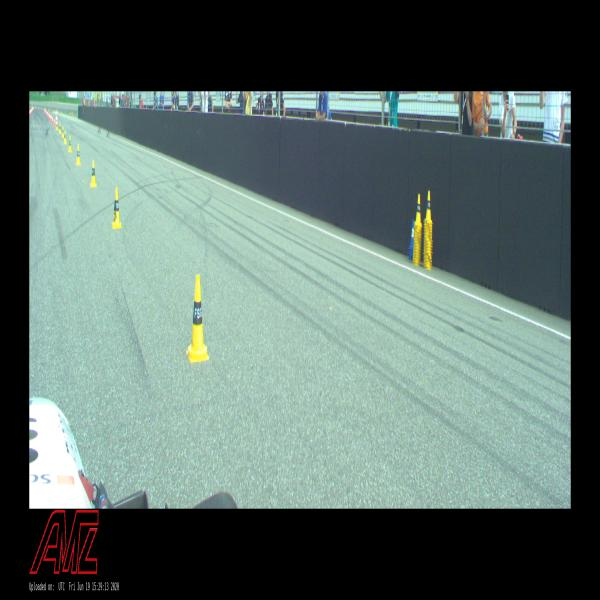blue_cone: (408, 219, 415, 251)
large_orange_cone: (55, 114, 58, 128)
orange_cone: (54, 118, 55, 126)
yellow_cone: (186, 274, 210, 364), (111, 186, 122, 230), (414, 193, 423, 226), (424, 190, 432, 224), (90, 160, 97, 187), (76, 144, 81, 167), (68, 136, 72, 152), (63, 130, 67, 144), (62, 125, 64, 138), (59, 122, 61, 134), (56, 120, 58, 130)
